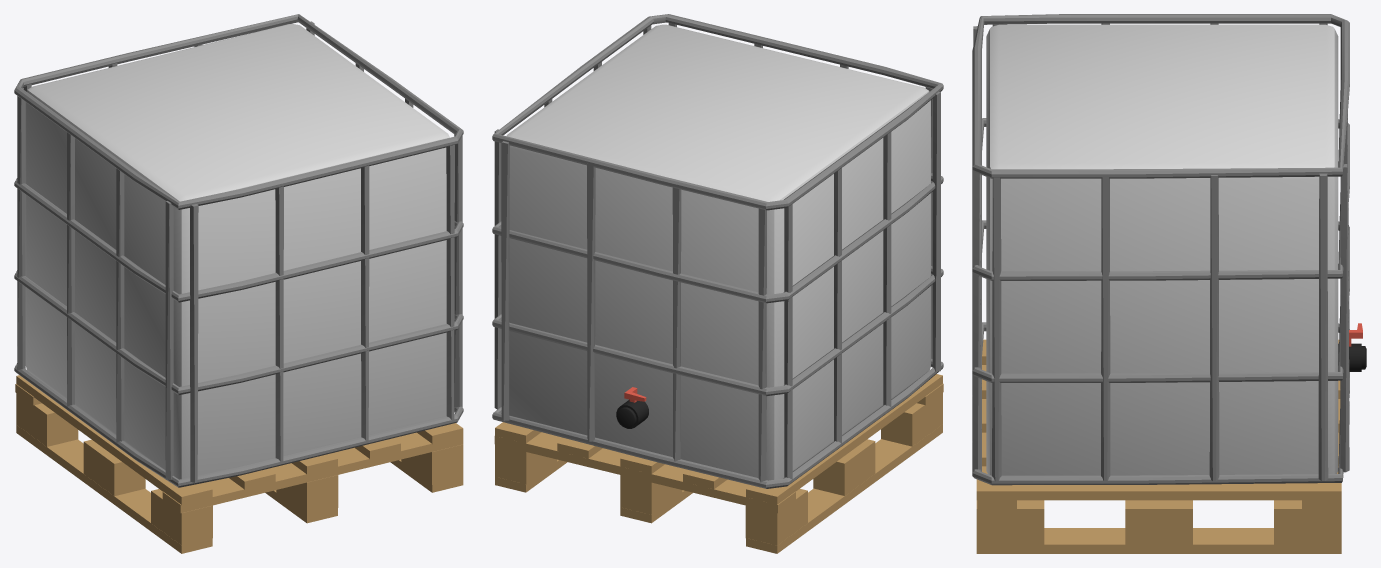
File: WatertankFirstStep.fbx
The picture shows the model from 3 angles, left to right: view 1: azimuth 30°, elevation 25°; view 2: azimuth 150°, elevation 25°; view 3: azimuth 270°, elevation 25°; orthographic projection. The views are drawn at different scales.
Visible parts, largest first — view 1: WaterTank; view 2: WaterTank; view 3: WaterTank.
Part boxes in pixels (box(x1,y1,x2,y2)): WaterTank: box(14, 14, 463, 553); WaterTank: box(492, 14, 943, 553); WaterTank: box(972, 14, 1366, 553).
Size of the model in its own units: 142 by 161 by 149.
